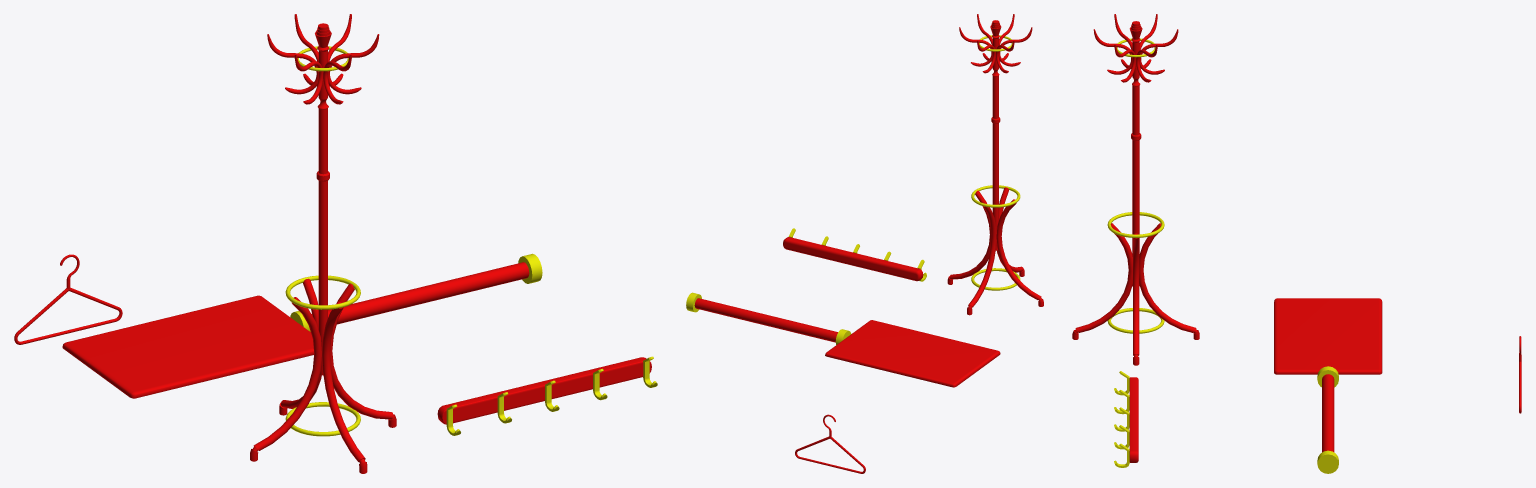
Rendered from entryway_props_grp.fbx.
3 renders of one model, left to right at view 1: azimuth 30°, elevation 25°; view 2: azimuth 150°, elevation 25°; view 3: azimuth 270°, elevation 25°, orthographic. The views are drawn at different scales.
Parts seen in each view (by area): view 1: doormat, coat_rack, wall_rack, closet_bar, coat_hanger; view 2: doormat, coat_rack, wall_rack, closet_bar, coat_hanger; view 3: doormat, coat_rack, closet_bar, wall_rack.
Part boxes in pixels (x1,y1,x2,y2): doormat: (62,295,314,398); coat_rack: (250,14,396,473); wall_rack: (437,356,657,435); closet_bar: (290,253,542,331); coat_hanger: (14,254,122,344); doormat: (825,320,1000,387); coat_rack: (947,14,1043,315); wall_rack: (783,228,926,281); closet_bar: (686,292,851,344); coat_hanger: (795,414,865,473); doormat: (1274,298,1382,374); coat_rack: (1072,14,1199,365); closet_bar: (1317,366,1338,473); wall_rack: (1114,371,1138,467).
Bounding box in the file's own units: 200 × 214 × 234.
